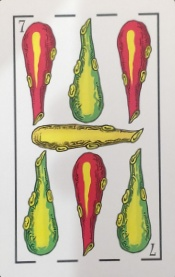7b: (10, 10, 161, 35)
